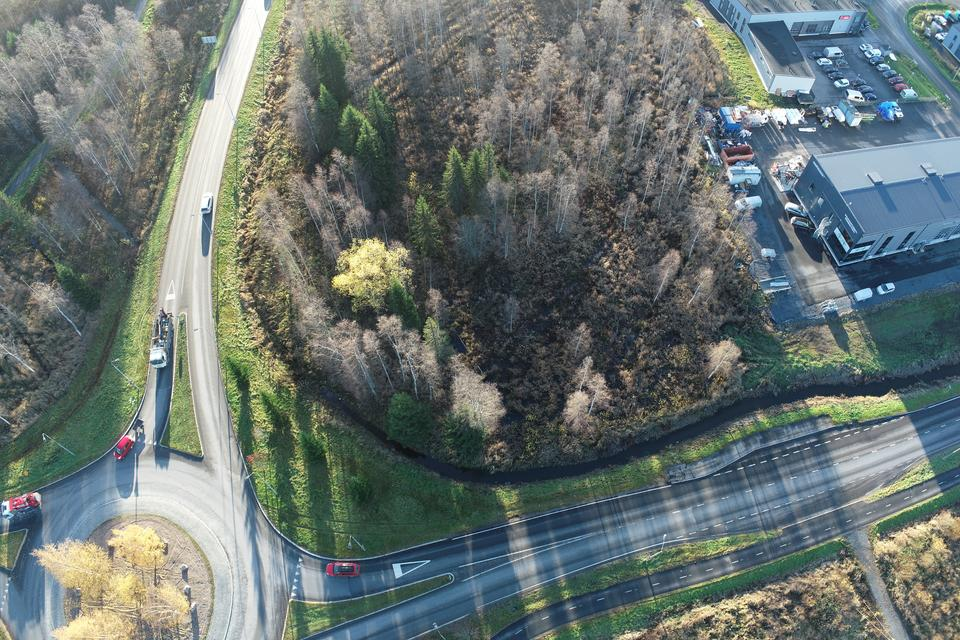intersection: (783, 404, 900, 579)
roundabout: (0, 387, 422, 640)
